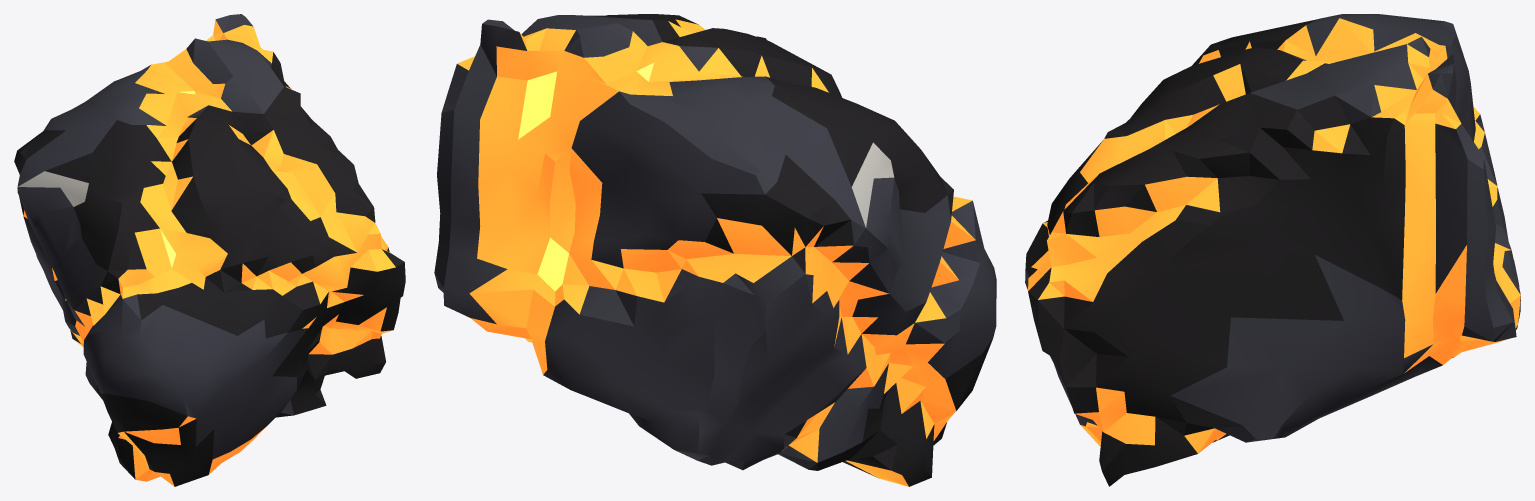
Rendered from ember_coal_hot_b.glb.
The picture shows the model from 3 angles, left to right: view 1: azimuth 30°, elevation 25°; view 2: azimuth 150°, elevation 25°; view 3: azimuth 270°, elevation 25°; orthographic projection. The views are drawn at different scales.
Visible parts, largest first — view 1: ember_coal_hot_b; view 2: ember_coal_hot_b; view 3: ember_coal_hot_b.
Boxes of the visible parts, x1,y1,x2,y2 form: ember_coal_hot_b: (14,14,405,486); ember_coal_hot_b: (434,14,996,486); ember_coal_hot_b: (1025,14,1520,486).
Bounding box in the file's own units: 2.88 × 3.34 × 3.01.
